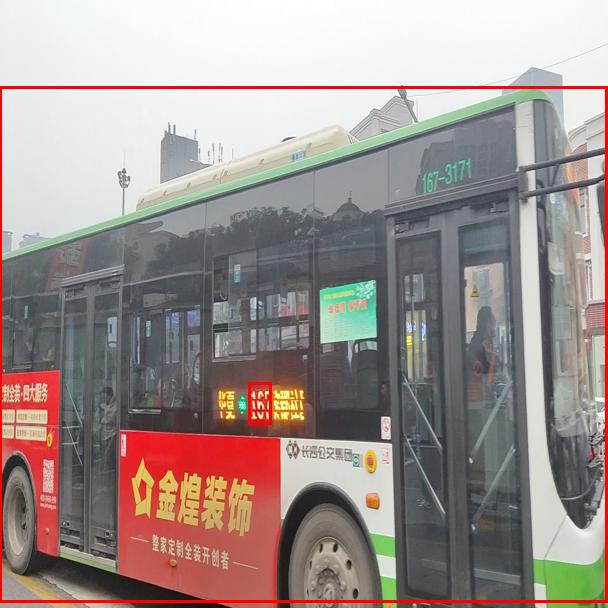screen: (248, 382, 271, 424)
